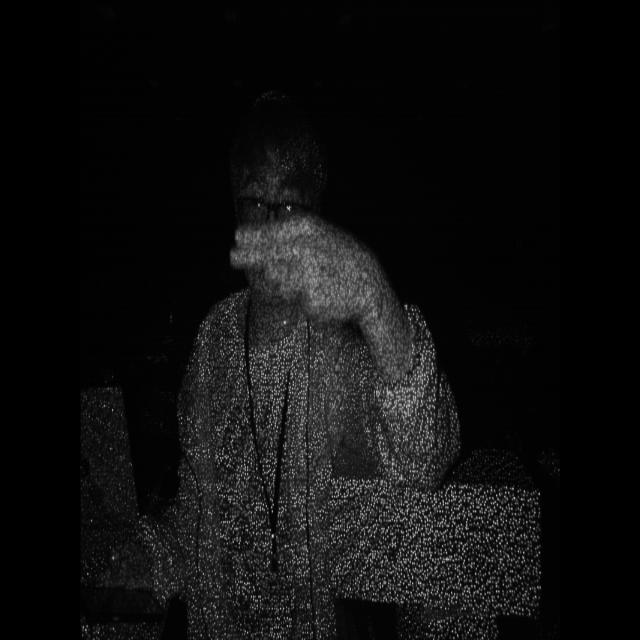H: (226, 213, 377, 339)
